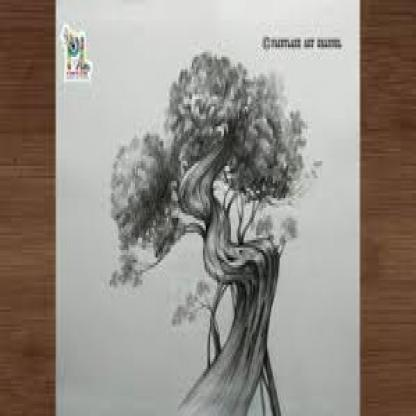crown_cloud: (109, 44, 308, 284)
trunk_bark: (200, 256, 286, 367)
